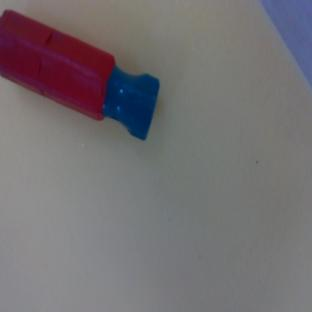part_2_good: (0, 6, 171, 141)
